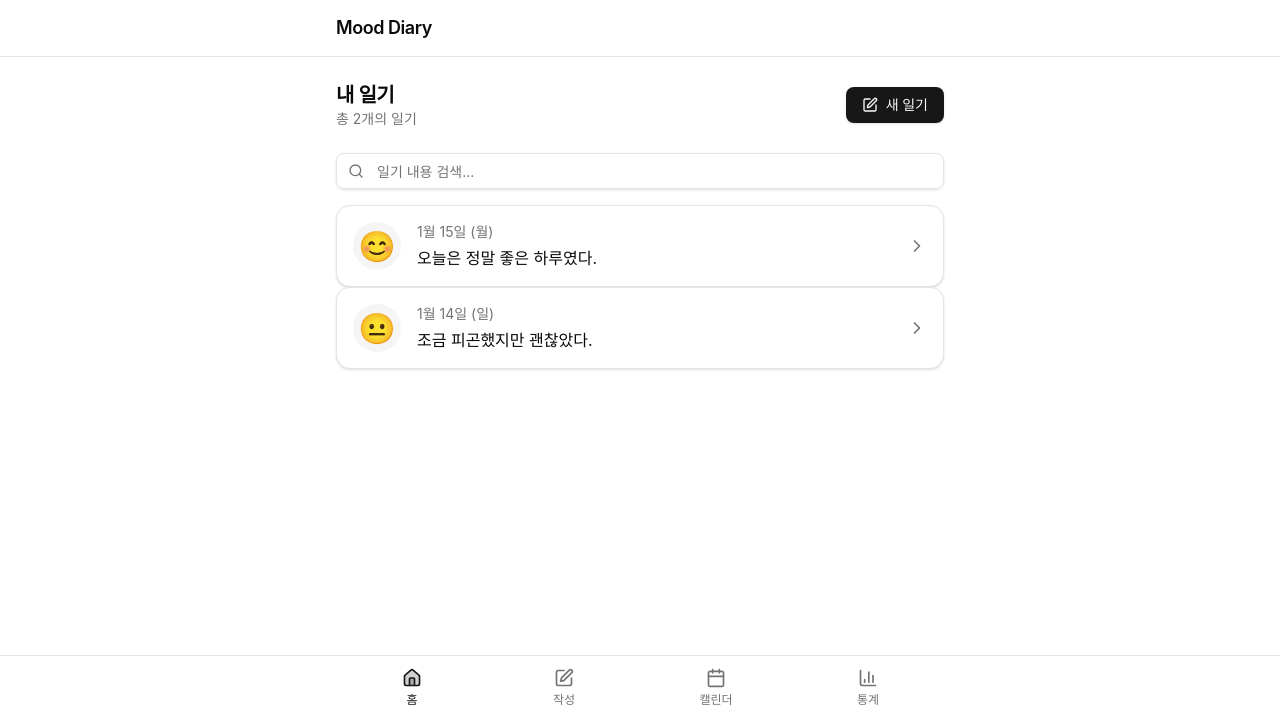
Test case: HomePage (TC-005) › TC-009: 일기 검색 › TC-009-1: 키워드로 일기를 검색할 수 있다
Check: the text "오늘은 정말 좋은 하루였다." is shown, box x1=417 y1=248 x2=597 y2=268
Type "좋은" into the field with placeholder "일기 내용 검색...". click: (640, 171)
box: x1=336 y1=153 x2=944 y2=189
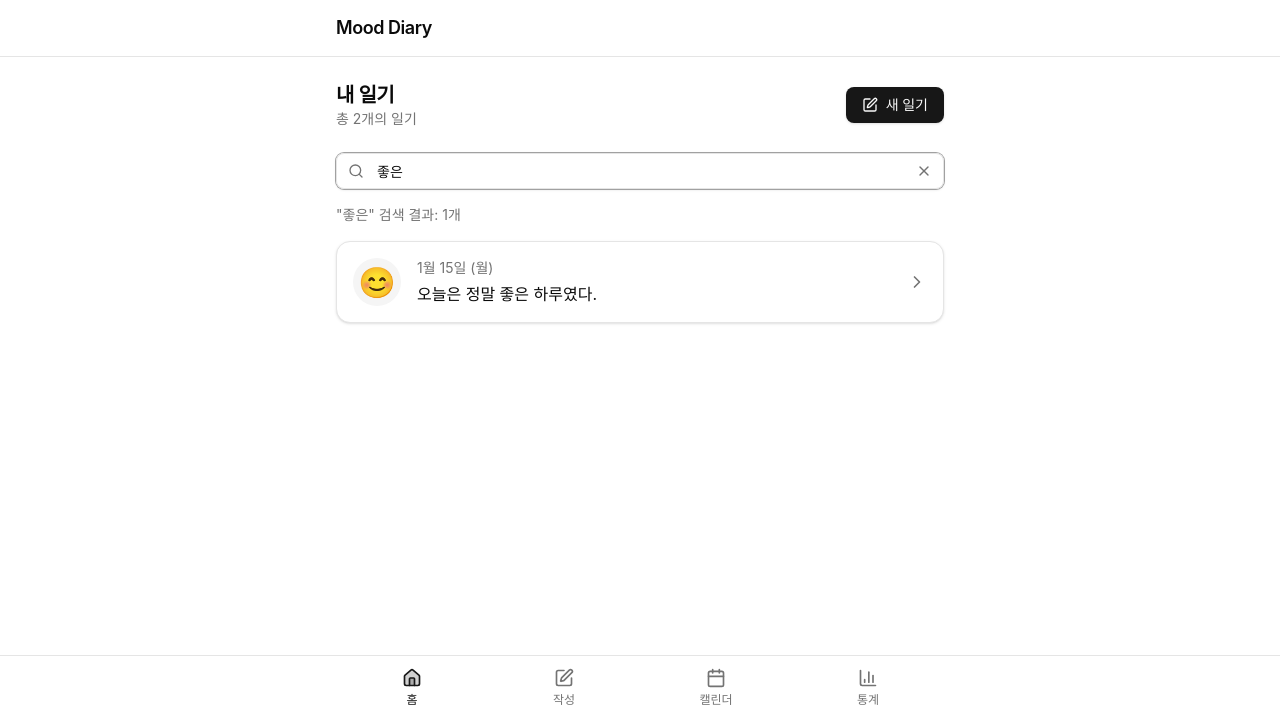
Check: the text "오늘은 정말 좋은 하루였다." is shown, box x1=417 y1=284 x2=597 y2=304
Check: the link "조금 피곤했지만 괜찮았다" is gone
